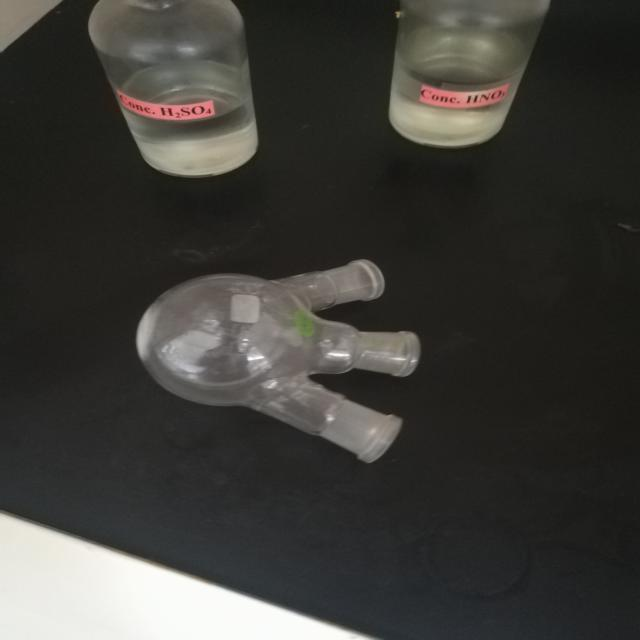Reagent_Bottle: (56, 0, 318, 197), (362, 0, 566, 180)
Round_Bottom_Flask_Borosilicate_Glass_3_Neck: (91, 263, 466, 491)
